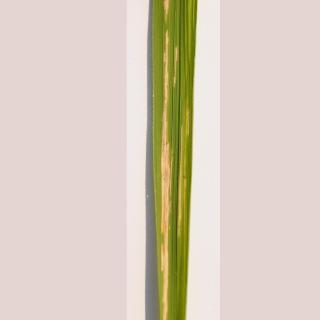Hawar-Daun: (150, 3, 193, 320)
